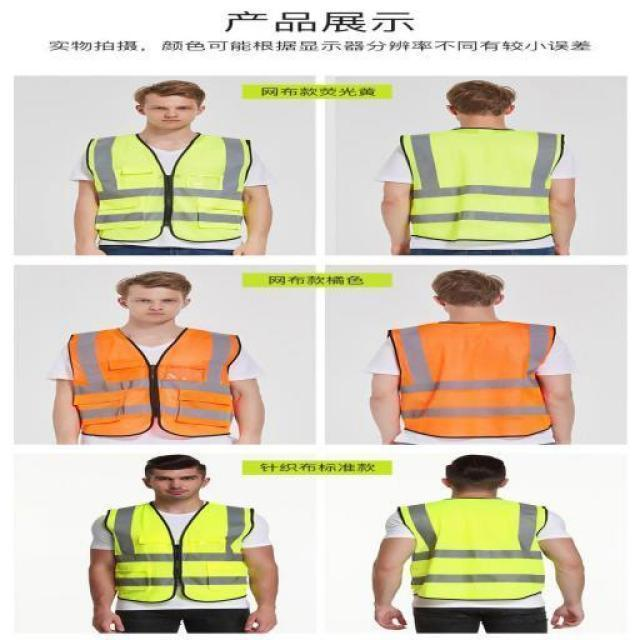no helmet: (110, 260, 204, 372), (422, 262, 532, 349), (429, 450, 536, 523), (443, 73, 524, 151), (132, 71, 212, 149), (142, 454, 227, 524)
person: (362, 454, 598, 632), (360, 261, 588, 443), (70, 450, 292, 632), (45, 264, 268, 444), (372, 76, 585, 257), (66, 75, 278, 254)
vest: (54, 327, 248, 441), (386, 322, 570, 437), (82, 132, 262, 247), (398, 125, 568, 240), (87, 501, 262, 607), (398, 502, 556, 606)
